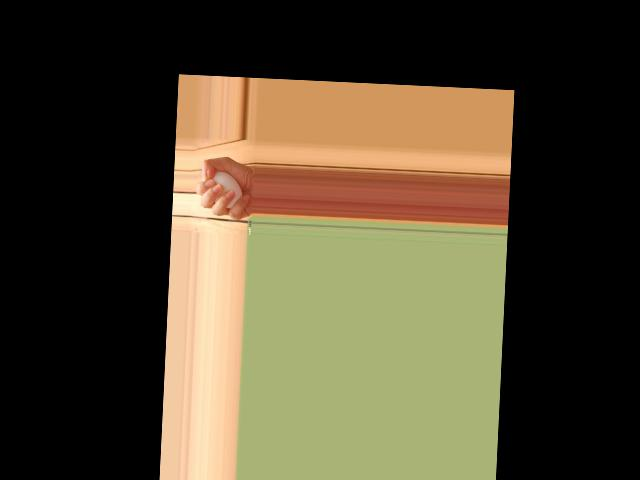egg: (208, 171, 243, 209)
